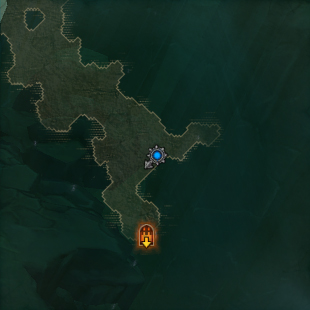Exit: (136, 222, 157, 249)
